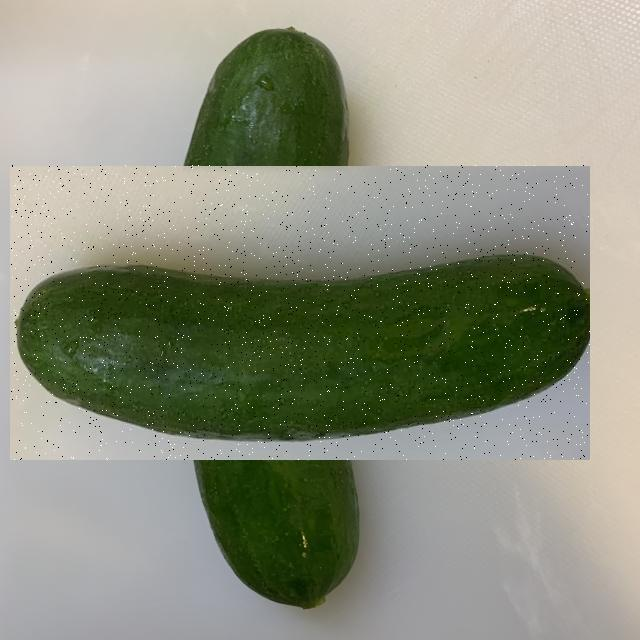Cucumber: (13, 252, 596, 440)
